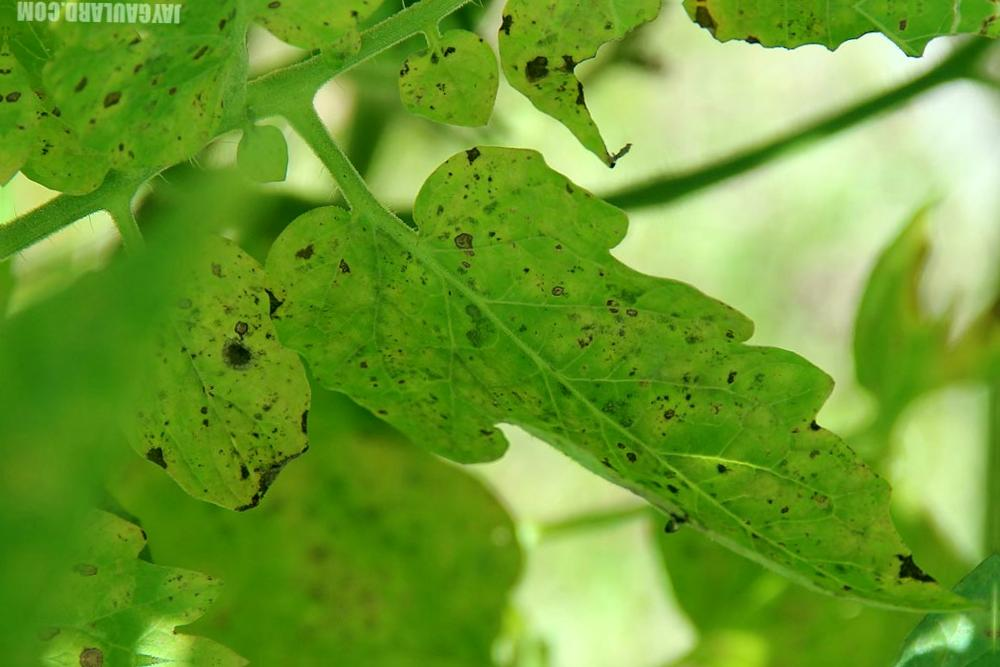Tomato Septoria leaf spot: (256, 157, 967, 622), (87, 163, 348, 564)
